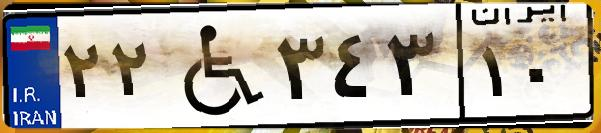0: (525, 38, 570, 115)
1: (475, 38, 525, 113)
2: (57, 26, 110, 100), (110, 28, 158, 98)
3: (270, 28, 330, 110), (385, 28, 445, 110)
4: (330, 28, 385, 110)
ژ (معلولین و جانبازان): (158, 12, 270, 120)
